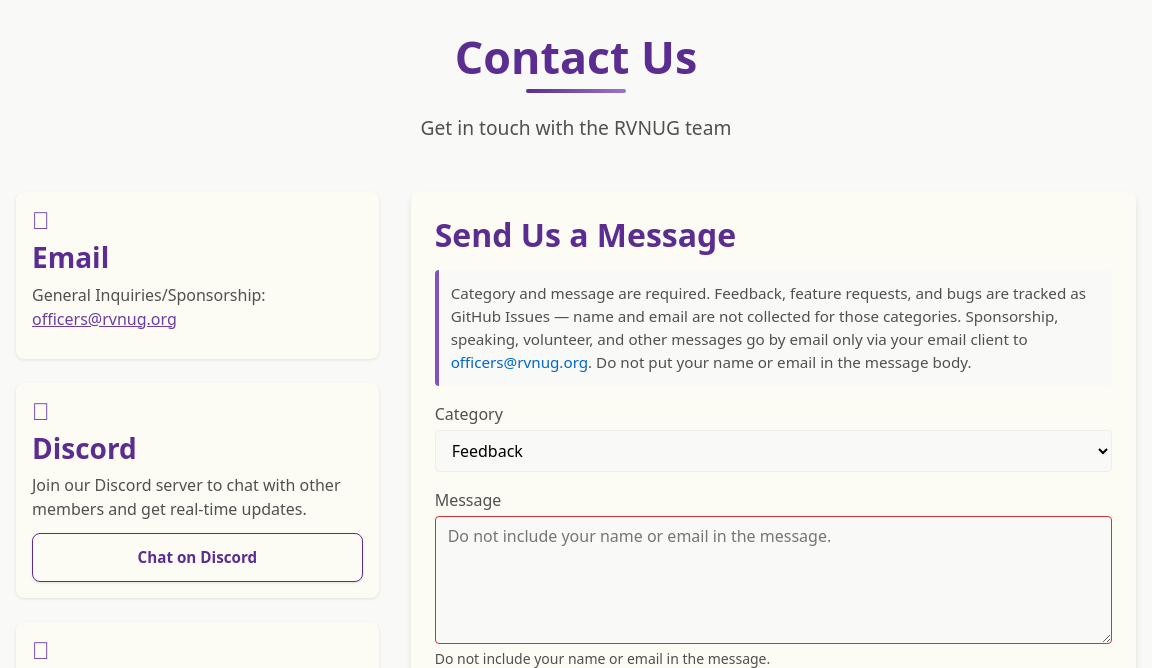
Test: ContactPage › submits issue categories without name or email and reports success
Select "Bug" in the dropdown labelled "Category" at [773, 451], box [435, 430, 1112, 472]
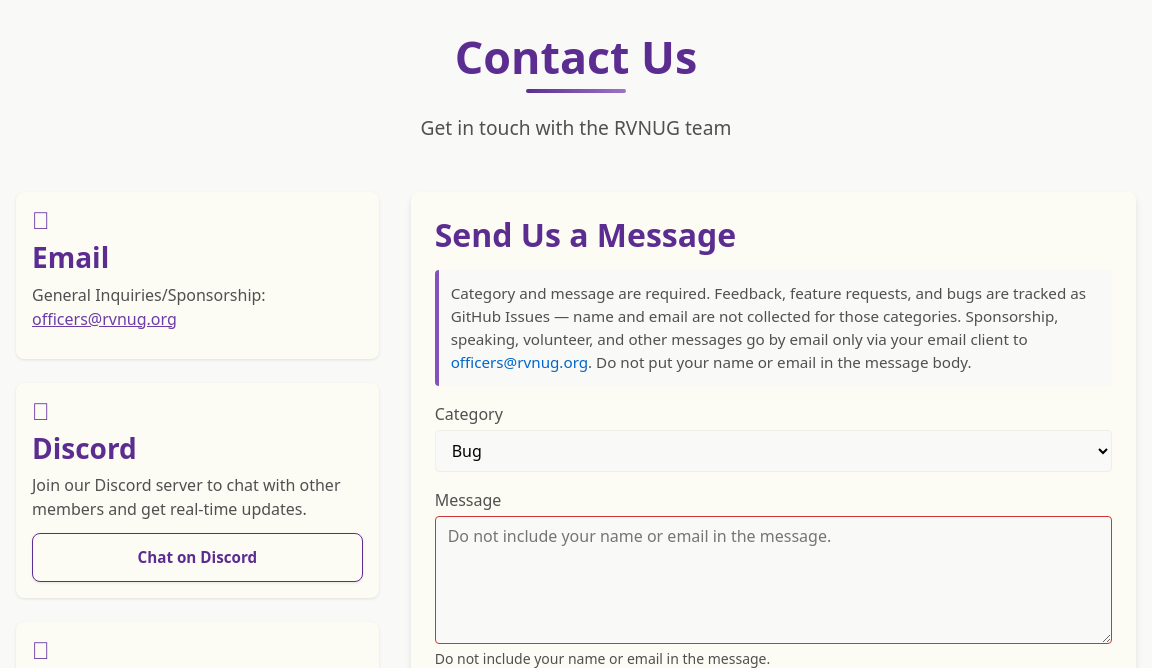
Type "A sufficiently long bug report" into the text box labelled "Message" at [773, 580], box [435, 516, 1112, 644]
Wait 1600 ms
(page scrolled)
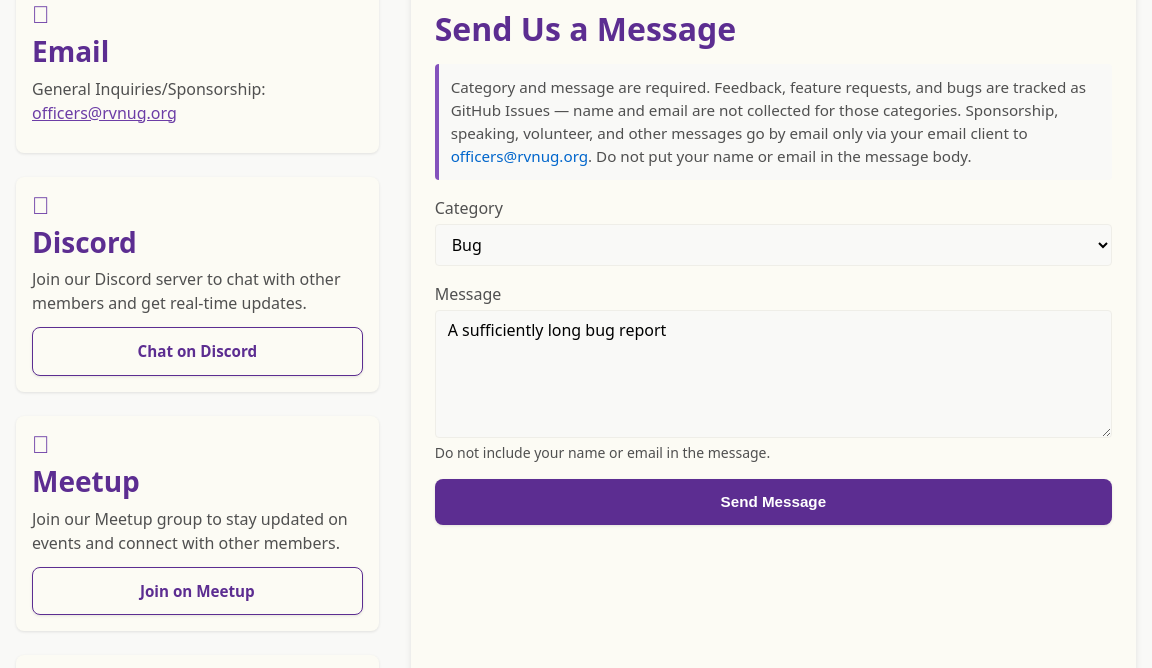
Submit the form "Send Message", box [435, 196, 1112, 525]
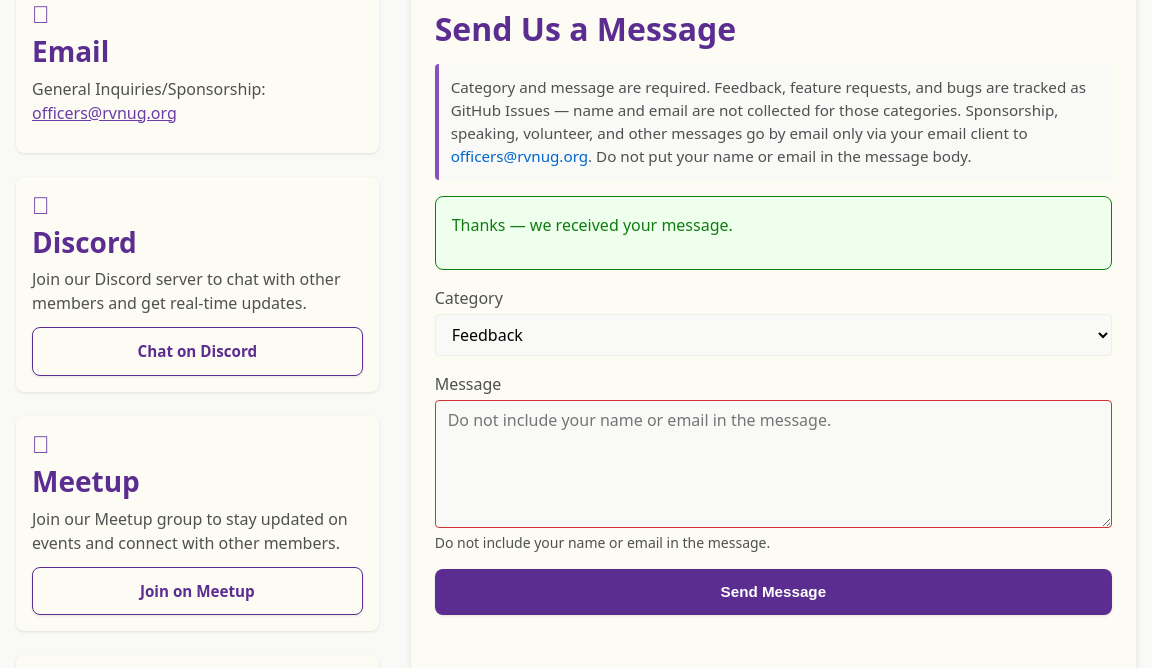
Now the message reads "Thanks — we received your message.", box [452, 214, 733, 236]
Now the text box labelled "Message" is empty, box [435, 400, 1112, 528]
